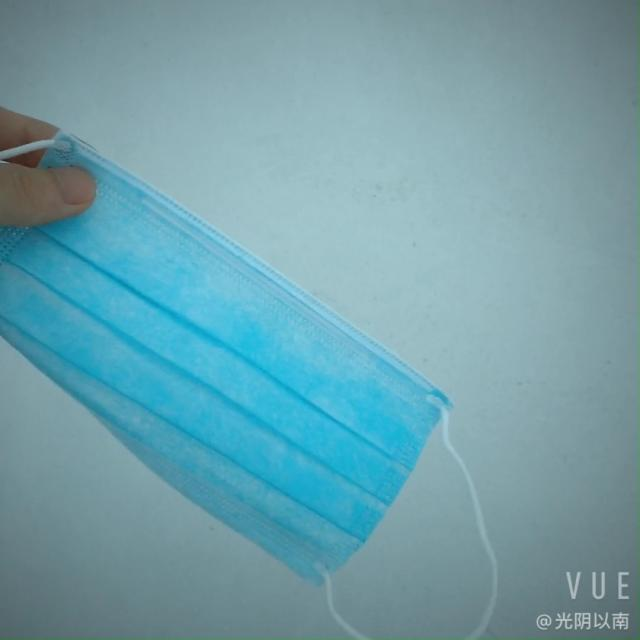face mask: (0, 107, 437, 583)
